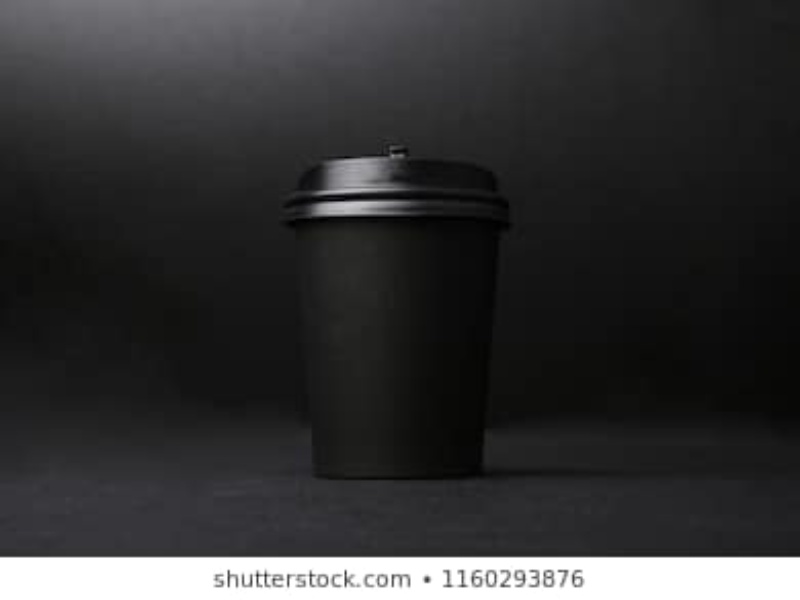coffee-lid: (274, 150, 529, 230)
plastic-cup: (265, 149, 529, 479)
